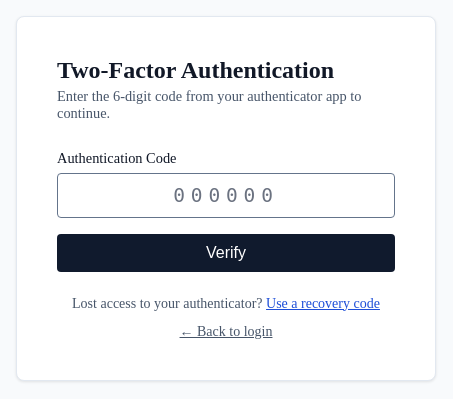
Test: MfaVerifyPage submission › disables submit button while loading
Type "123456" into the field labelled "Authentication Code". click: (226, 195)
box: [57, 172, 395, 218]
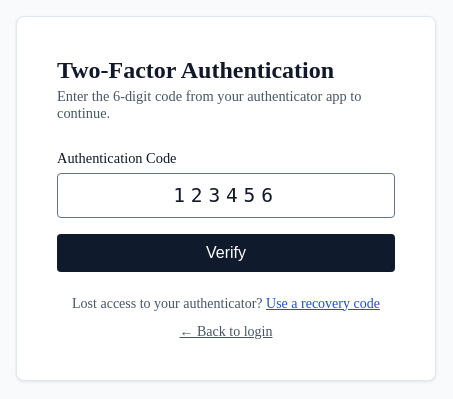
Click the button "Verify". click: click(226, 252)
box: [57, 234, 395, 272]
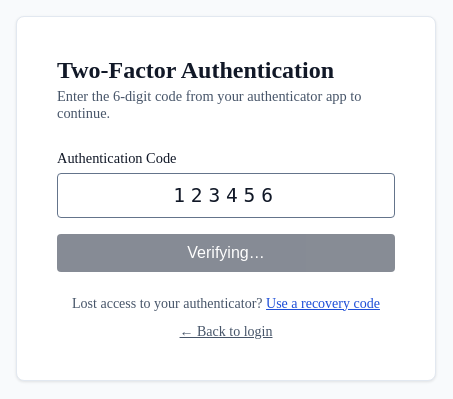
Now the button "Verifying…" is disabled, box [57, 234, 395, 272]
